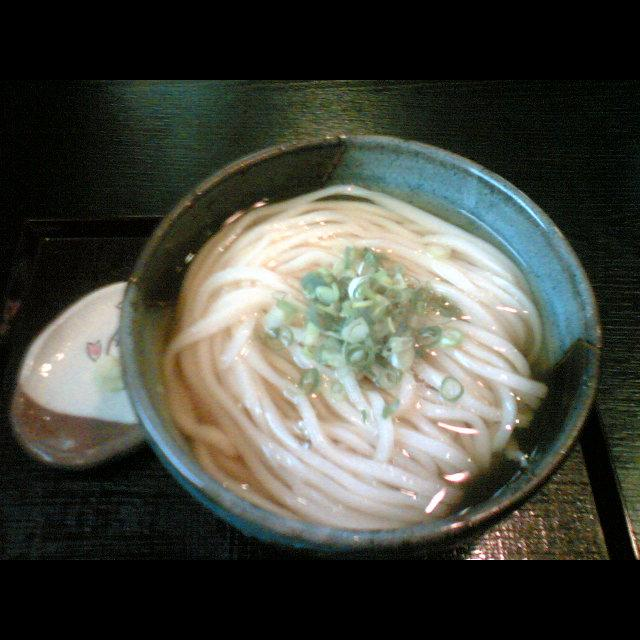noodles: (161, 182, 548, 531)
